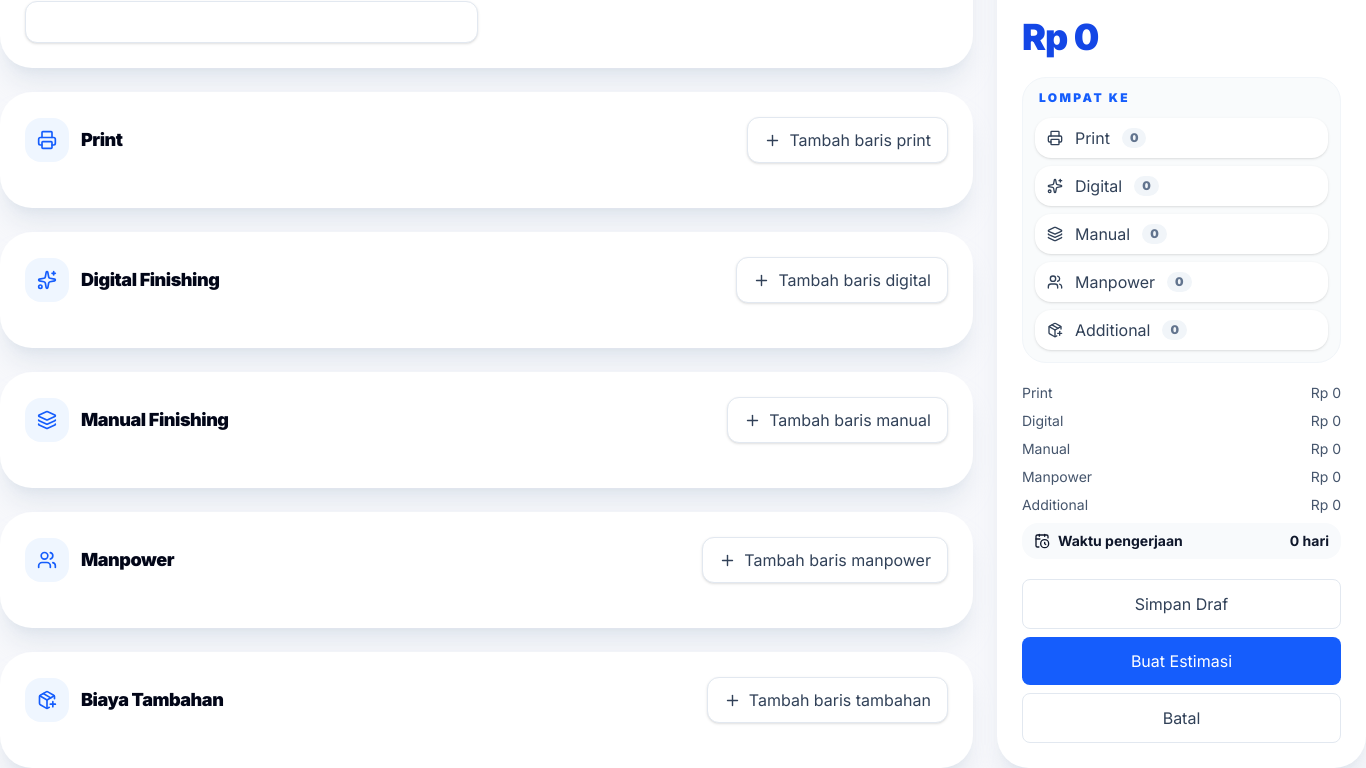
Test: EstimationView › shows quantity and uses it for an area additional cost
(page scrolled)
Click the button "Tambah baris tambahan" at (827, 700), box [707, 677, 948, 723]
(page scrolled)
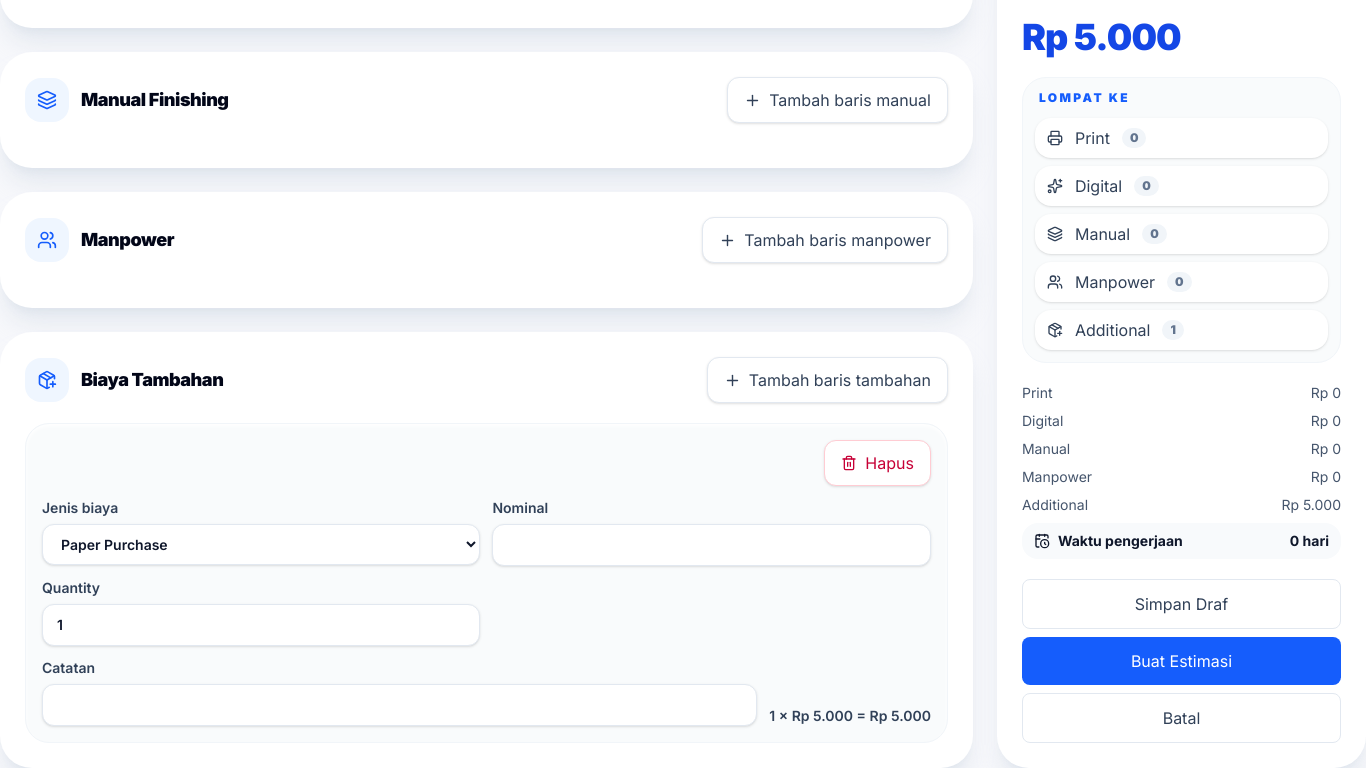
Select "Metalize Material" in the dropdown labelled "Jenis biaya" at (261, 544), box [42, 524, 480, 565]
(page scrolled)
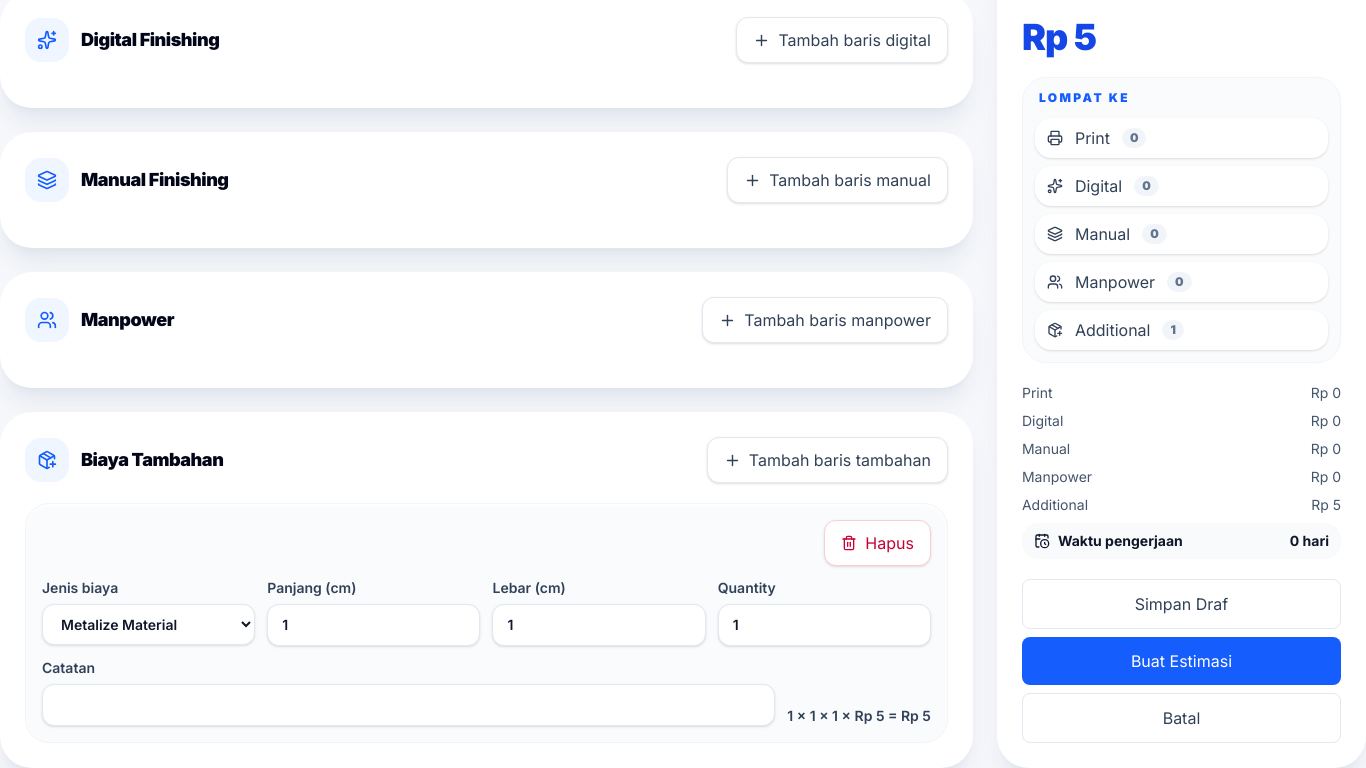
Replace the text in the field labelled "Panjang (cm)" with "10" at (374, 625), box [267, 604, 480, 646]
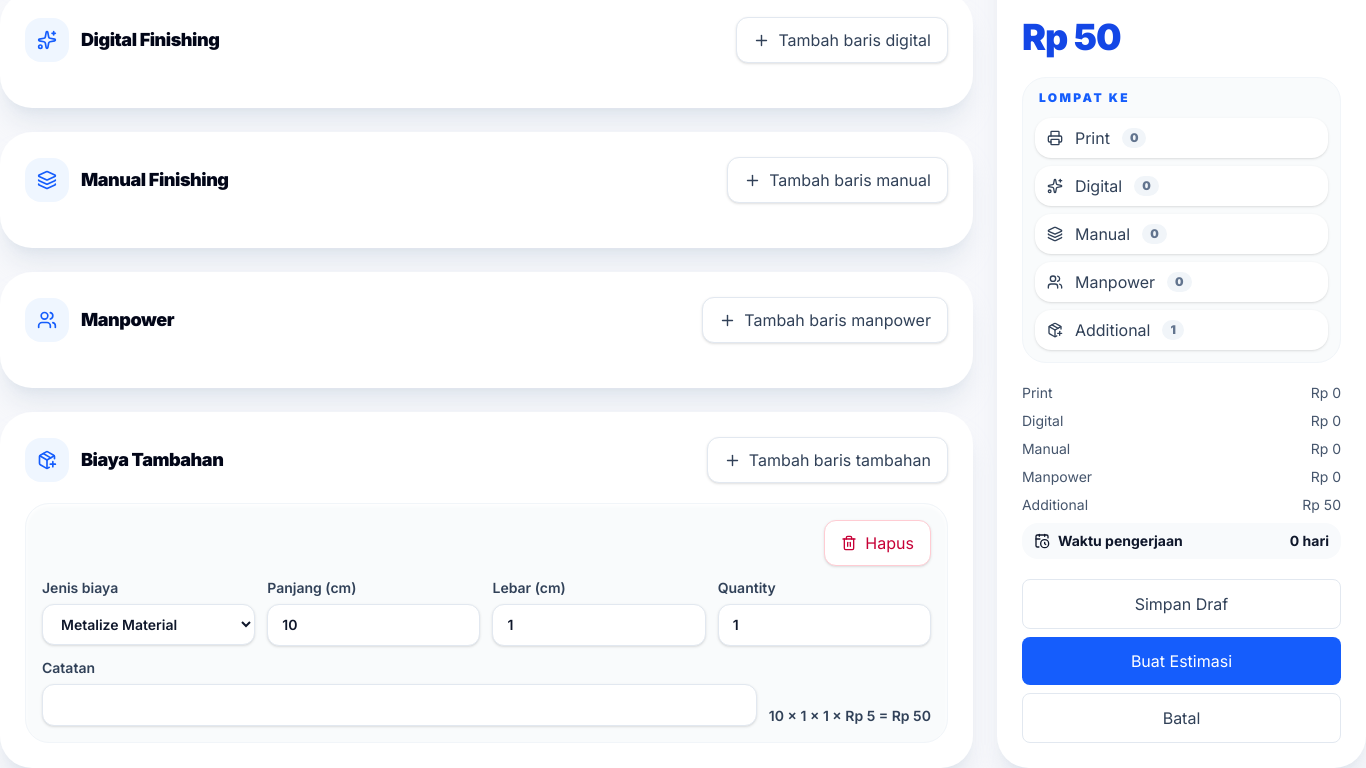
Replace the text in the field labelled "Lebar (cm)" with "20" at (599, 625), box [492, 604, 706, 646]
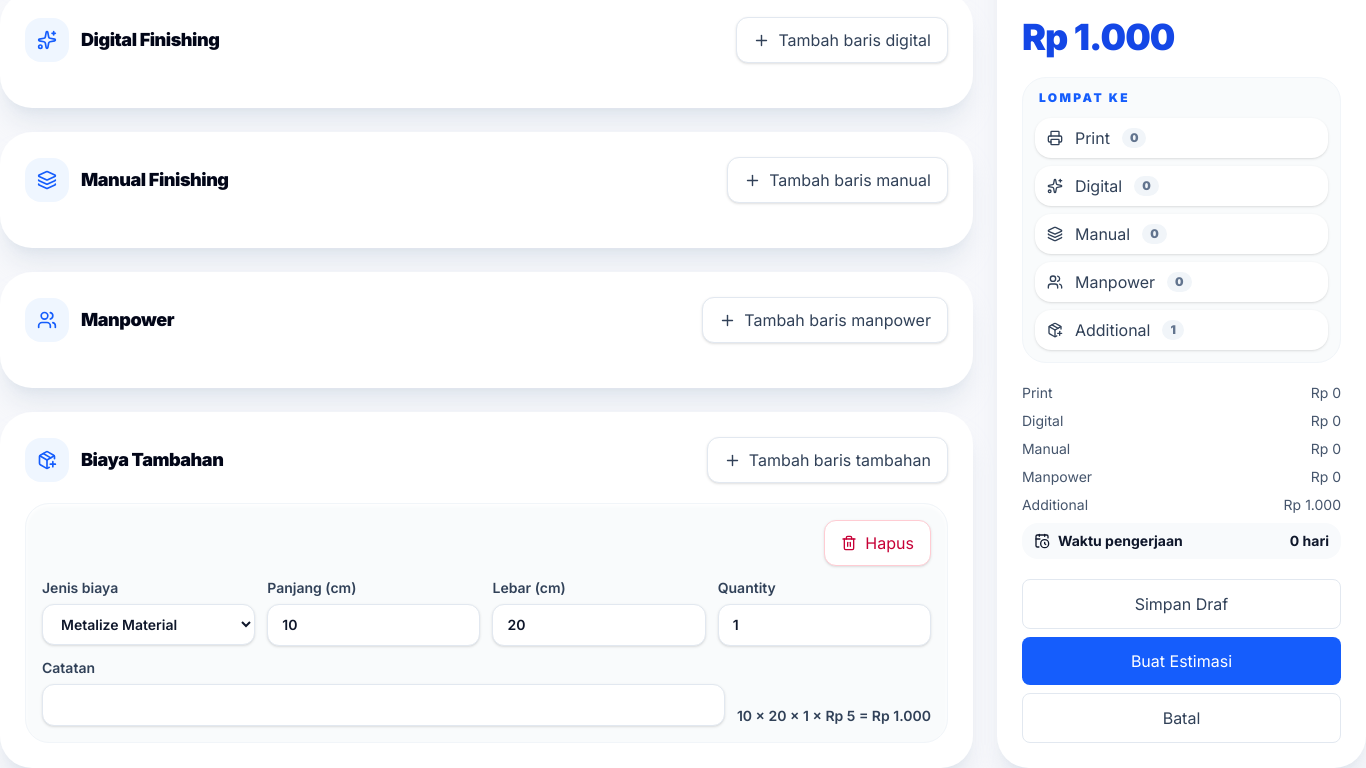
Replace the text in the number field labelled "Quantity" with "3" at (824, 625), box [718, 604, 931, 646]
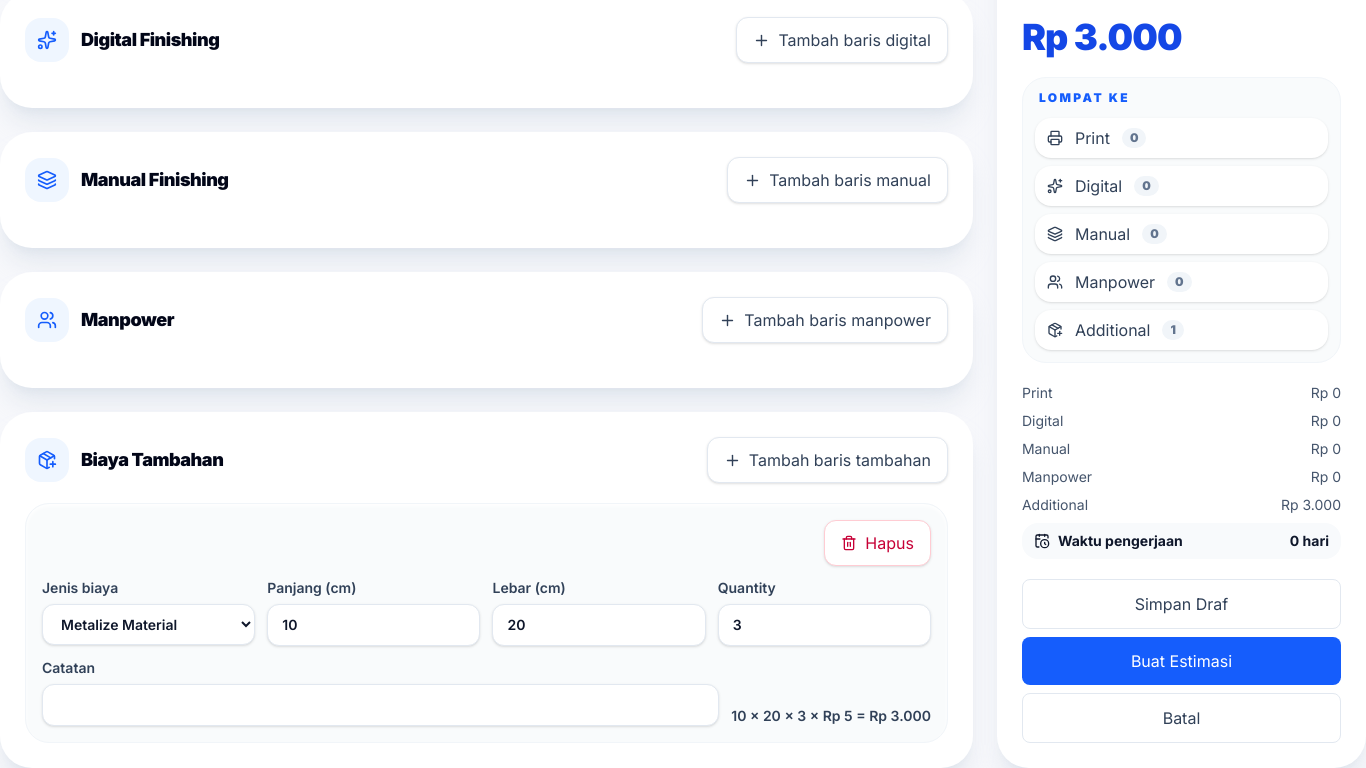
Expected: the field labelled "Catatan" is shown, [42, 684, 719, 726]
Expected: the text "10 × 20 × 3 × Rp 5 = Rp 3.000" is shown, [731, 706, 931, 726]
